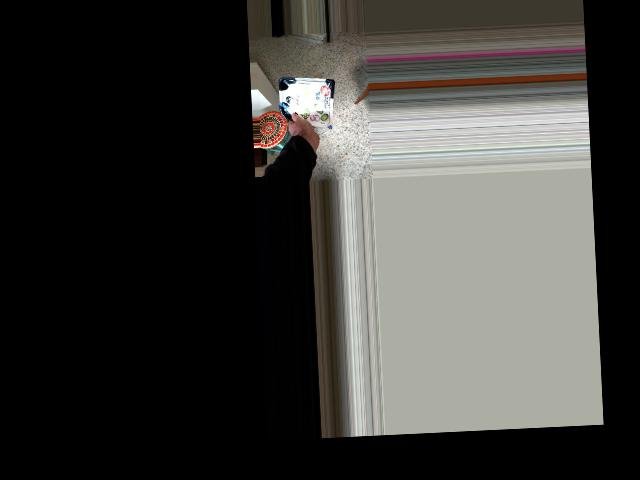cheese: (277, 86, 336, 150)
